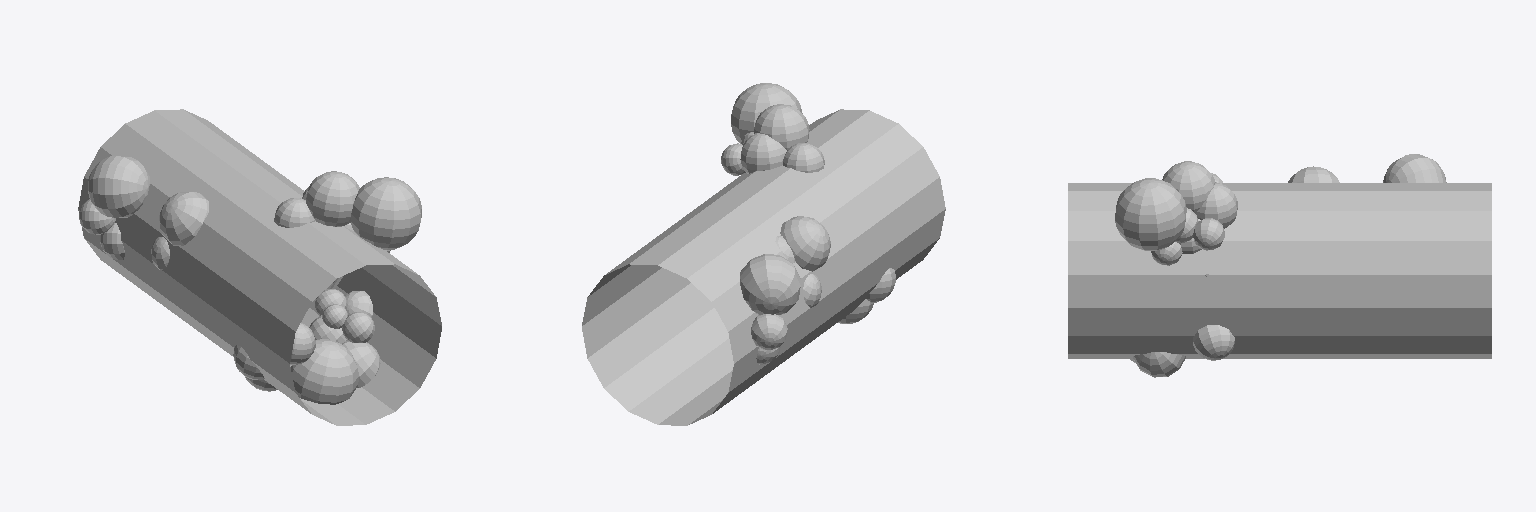
The model's file is straight_B.obj.
The picture shows the model from 3 angles: view 1: azimuth 30°, elevation 25°; view 2: azimuth 150°, elevation 25°; view 3: azimuth 270°, elevation 25°; orthographic projection.
Parts seen in each view (by area): view 1: straight_A; view 2: straight_A; view 3: straight_A.
Part boxes in pixels (x1,y1,x2,y2): straight_A: (78, 109, 441, 425); straight_A: (582, 83, 945, 425); straight_A: (1068, 154, 1491, 377).
Size of the model in its own units: 104 by 111 by 197.